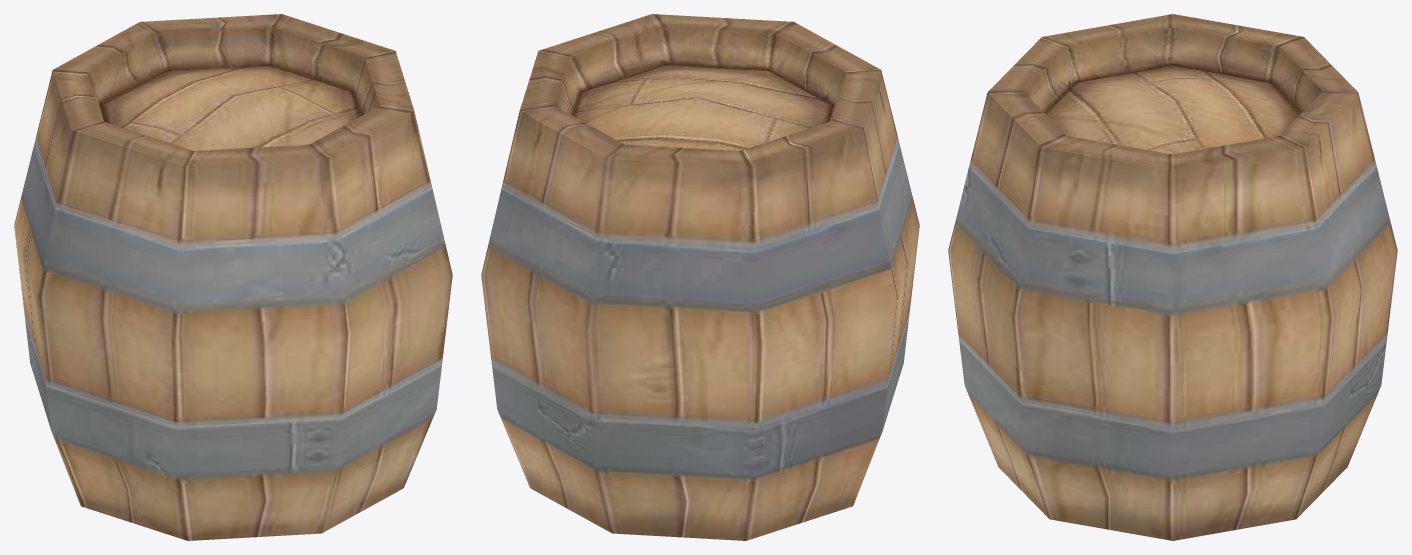
The model's file is Barrel2.gltf.
3 renders of one model, left to right at view 1: azimuth 30°, elevation 25°; view 2: azimuth 150°, elevation 25°; view 3: azimuth 270°, elevation 25°, orthographic.
Parts seen in each view (by area): view 1: barrel; view 2: barrel; view 3: barrel.
Boxes of the visible parts, x1,y1,x2,y2 form: barrel: (14,14,452,540); barrel: (481,14,919,540); barrel: (948,14,1397,540).
Bounding box in the file's own units: 1.62 × 1.49 × 1.62.
1 material, 1 textured.
